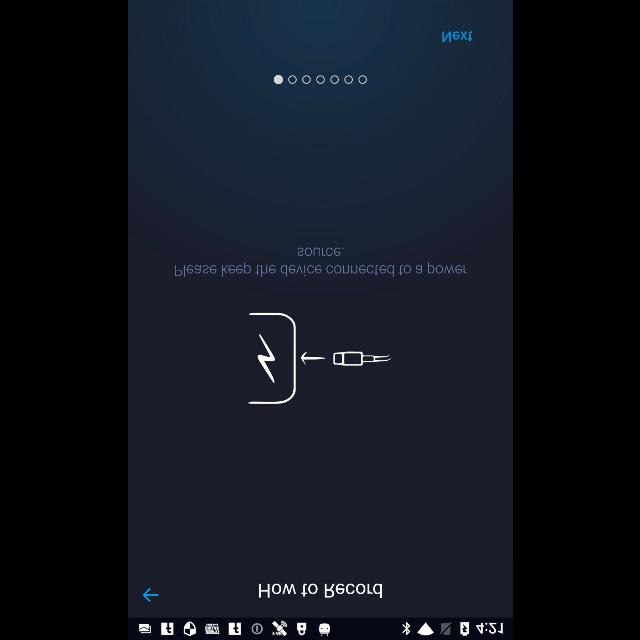icon: (142, 588, 158, 602)
image: (247, 312, 391, 403)
pageindicator: (272, 75, 366, 85)
text: (174, 247, 466, 277), (258, 584, 382, 598), (442, 31, 472, 43)
uppertaskbar: (128, 617, 512, 639)
